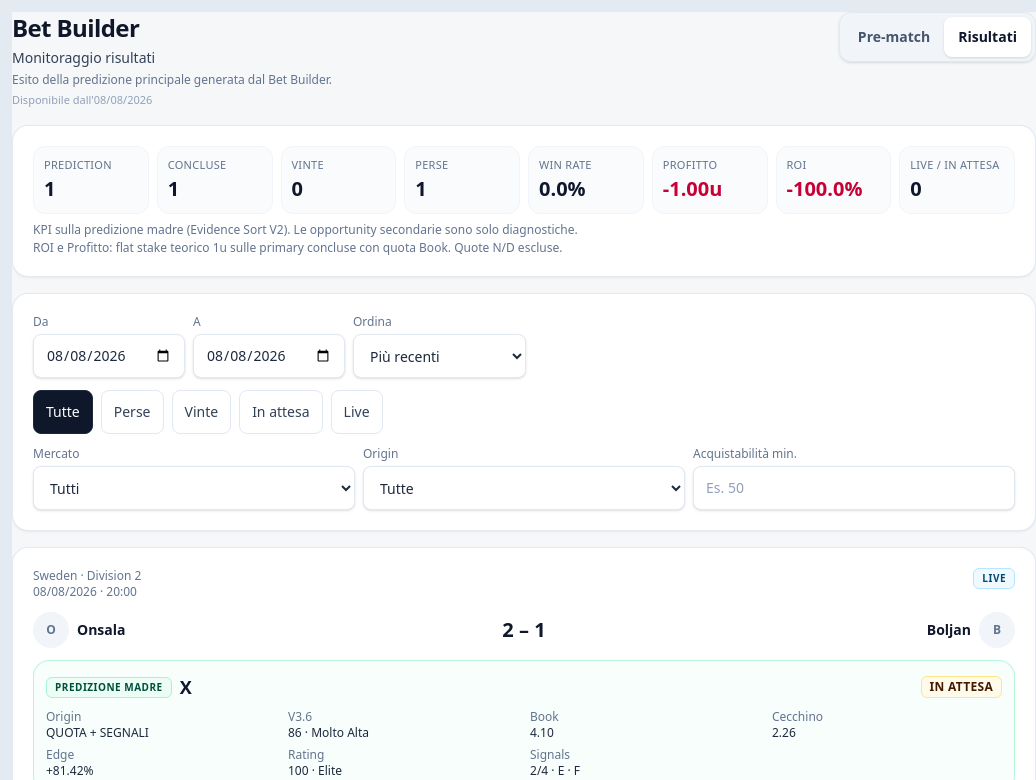
Test: BetBuilderPage Results BET-RESULTS-01 › BET-RESULTS-01.2 Live uses match_status=live and restores recent
This screenshot has width=1036, height=780.
Click the button with test id "results-outcome-pending" at (281, 412), box [239, 390, 323, 434]
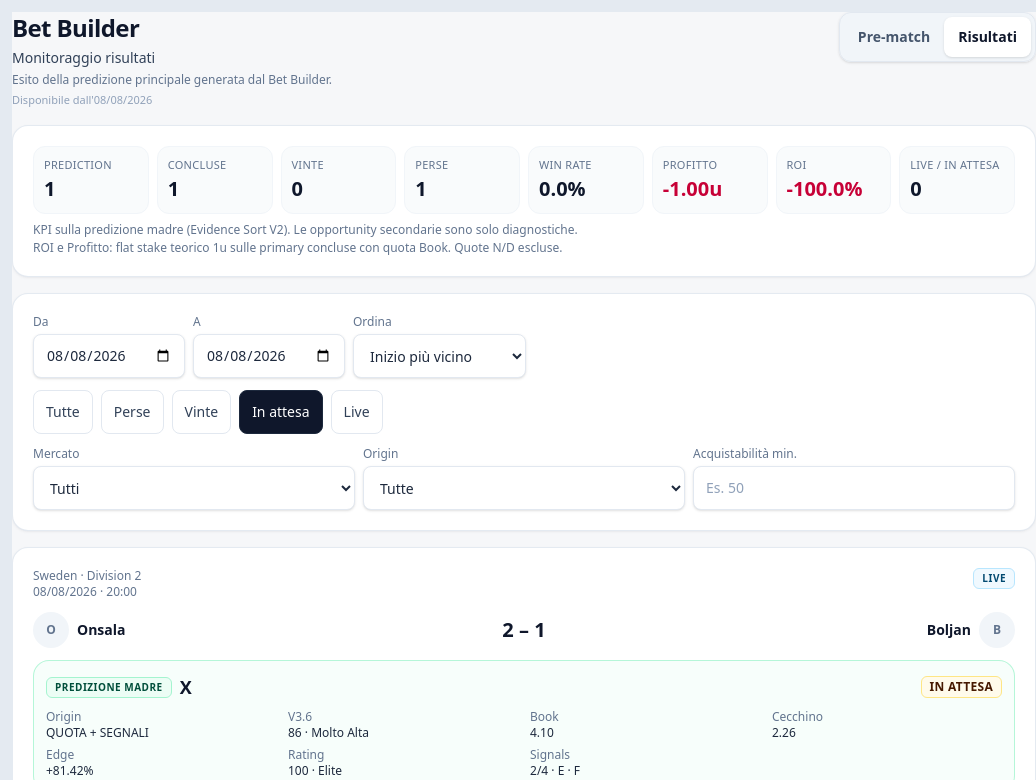
Click the button with test id "results-outcome-live" at (357, 412), box [331, 390, 383, 434]
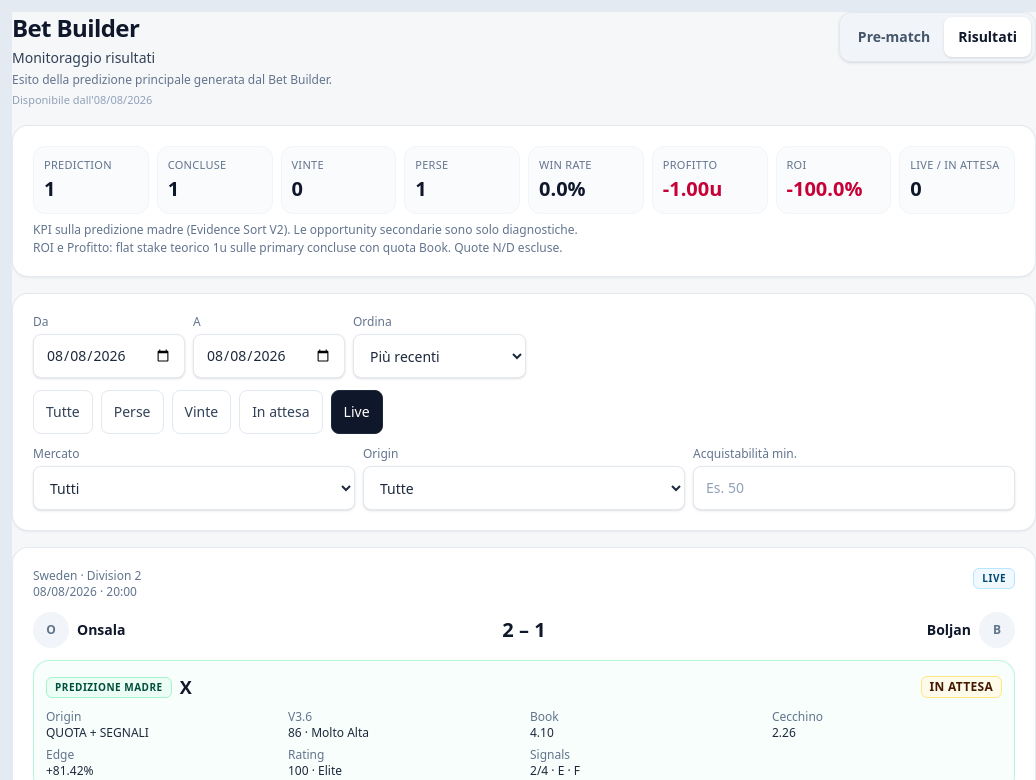
Expected: the text "LIVE" is shown, [973, 568, 1015, 589]
Result: the dropdown with test id "results-sort" shows "Più recenti" at [353, 334, 526, 378]
